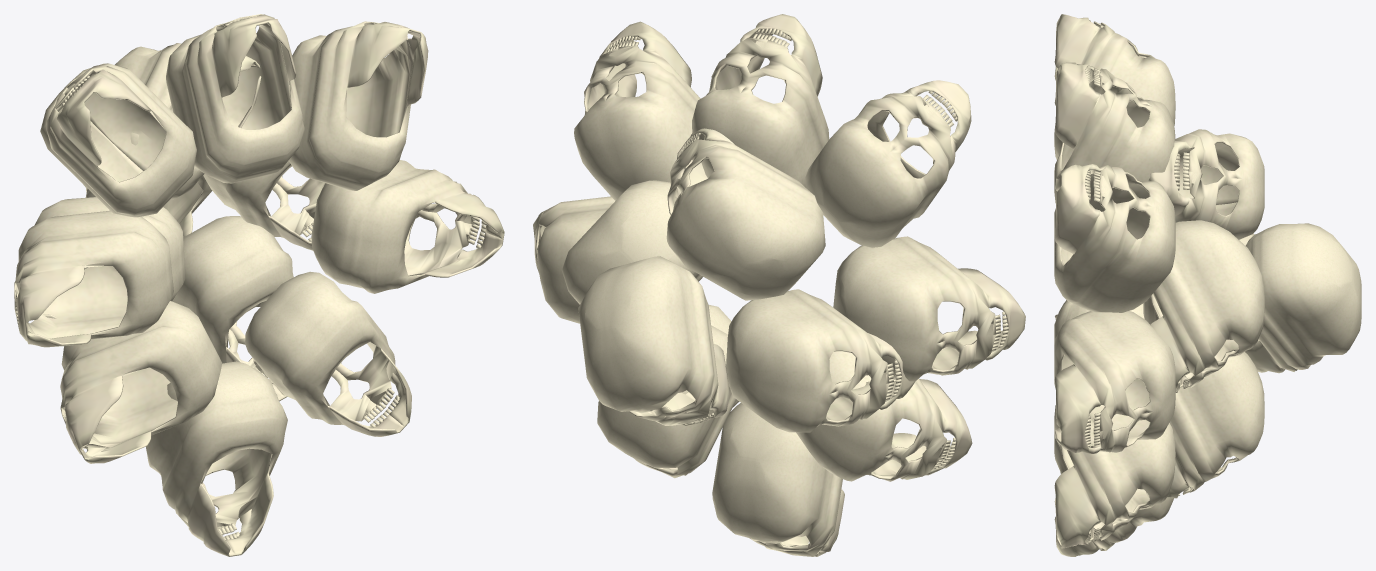
File: skull2.fbx
3 views of the same model, side by side, from view 1: azimuth 30°, elevation 25°; view 2: azimuth 150°, elevation 25°; view 3: azimuth 270°, elevation 25° (orthographic). The views are drawn at different scales.
Visible parts, largest first — view 1: Cube.003; view 2: Cube.003; view 3: Cube.003.
Part boxes in pixels (x1,y1,x2,y2): Cube.003: (14,14,504,556); Cube.003: (533,14,1025,556); Cube.003: (1054,14,1361,556).
Size of the model in its own units: 484 by 510 by 285.
